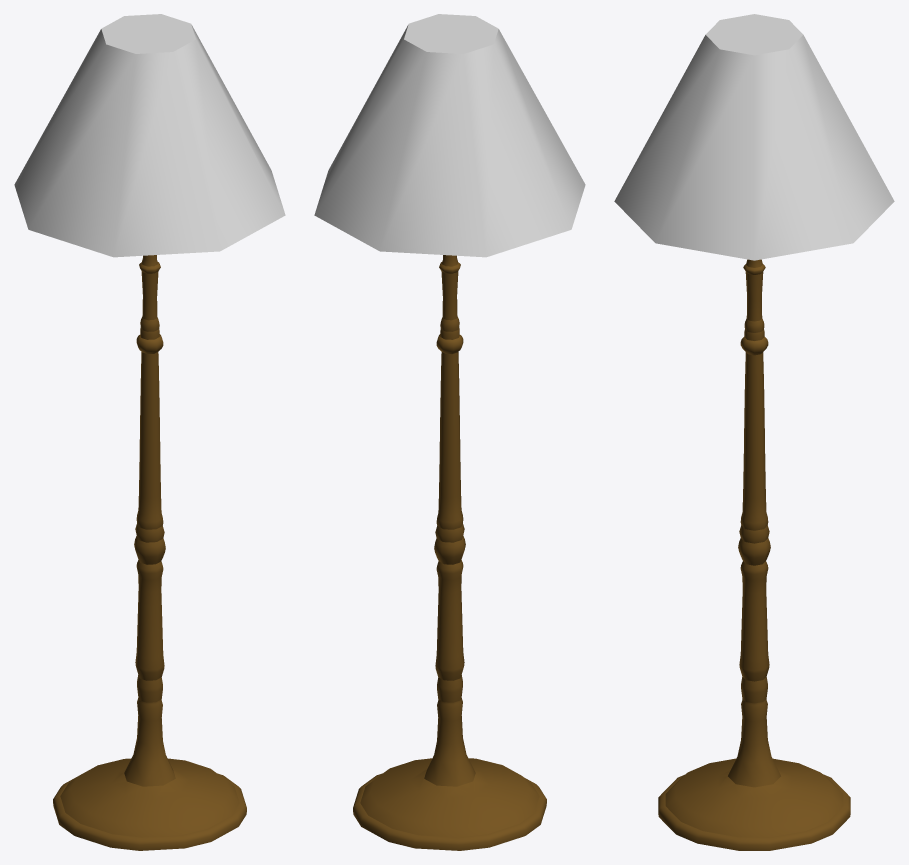
Rendered from Lamp_1.fbx.
3 renders of one model, left to right at view 1: azimuth 30°, elevation 25°; view 2: azimuth 150°, elevation 25°; view 3: azimuth 270°, elevation 25°, orthographic.
Parts seen in each view (by area): view 1: Lamp_1; view 2: Lamp_1; view 3: Lamp_1.
Part boxes in pixels (box(x1,y1,x2,y2)): Lamp_1: box(14, 14, 285, 850); Lamp_1: box(314, 14, 585, 850); Lamp_1: box(614, 14, 894, 850).
Bounding box in the file's own units: 57.37 × 175 × 57.37.
